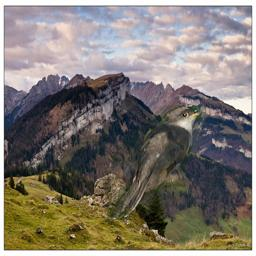Cuckoo: (105, 105, 206, 224)
